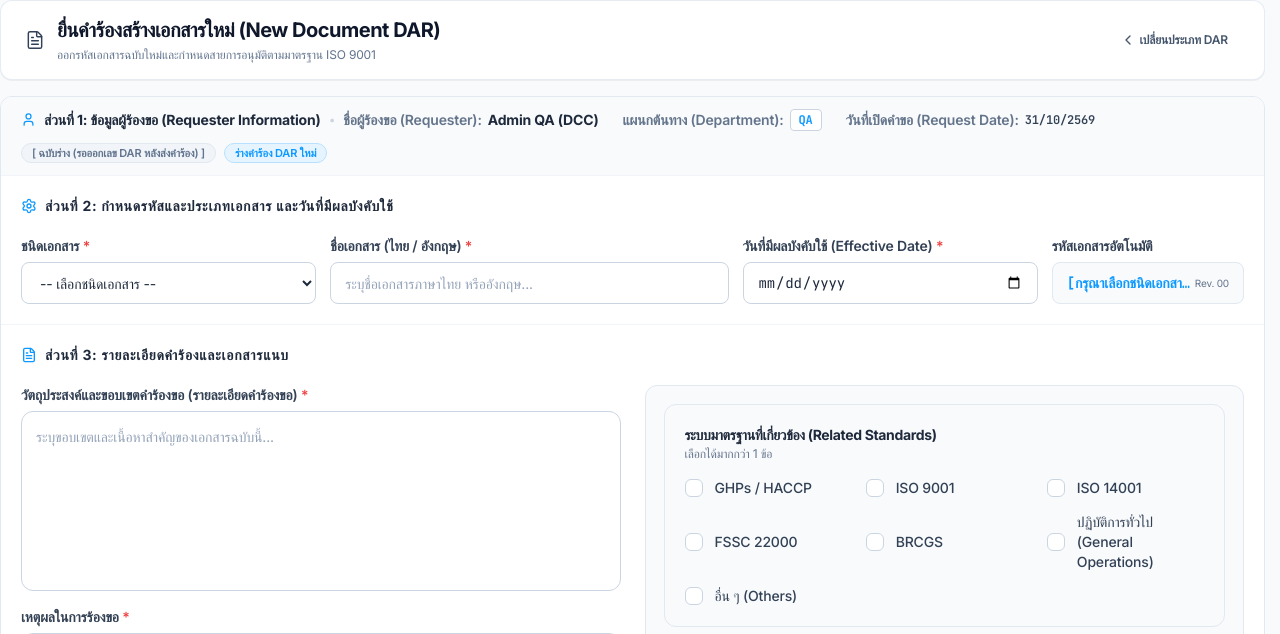
Test case: 2-Digit Base Document Running Number Standard (01-99 ➔ 100+) Tests › 2. Internal DAR Document Code Auto-Generation (DarNewForm & useStore) › renders 2-digit preview in DarNewForm UI (e.g. FM-QA-01)
Note: Select FM
Select "แบบฟอร์ม (Form) (FM)" in the dropdown at [169, 283], box x1=21 y1=262 x2=316 y2=304
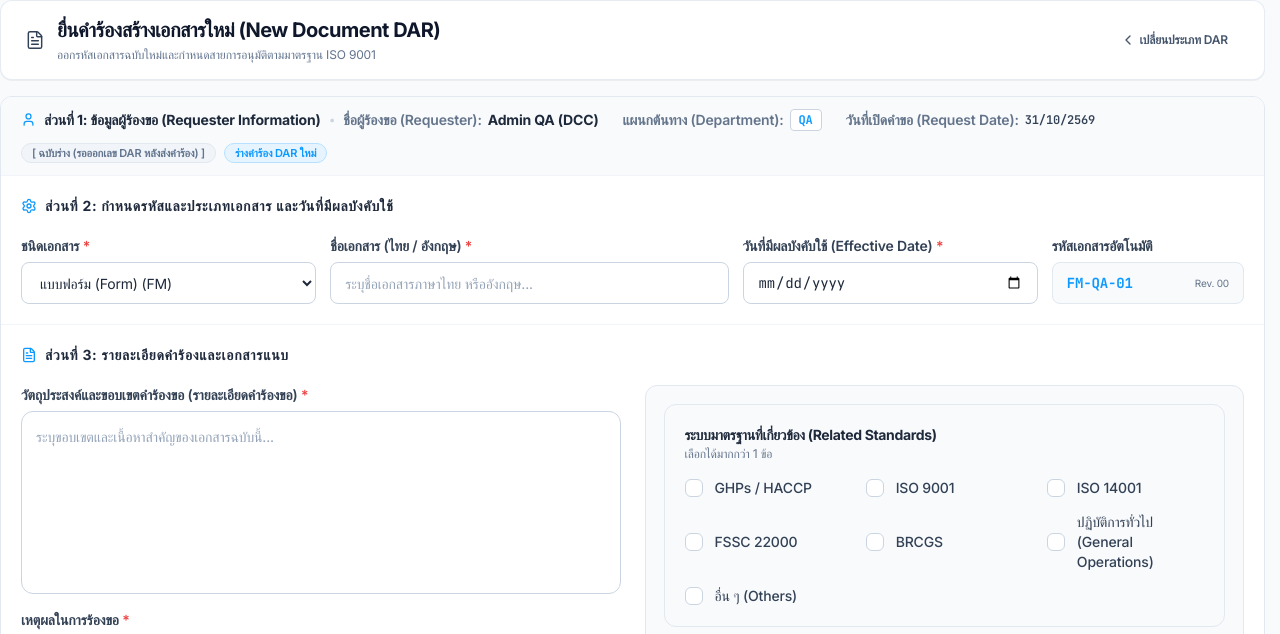
Expected: the text "FM-QA-01" is shown, x1=1067 y1=273 x2=1133 y2=293
